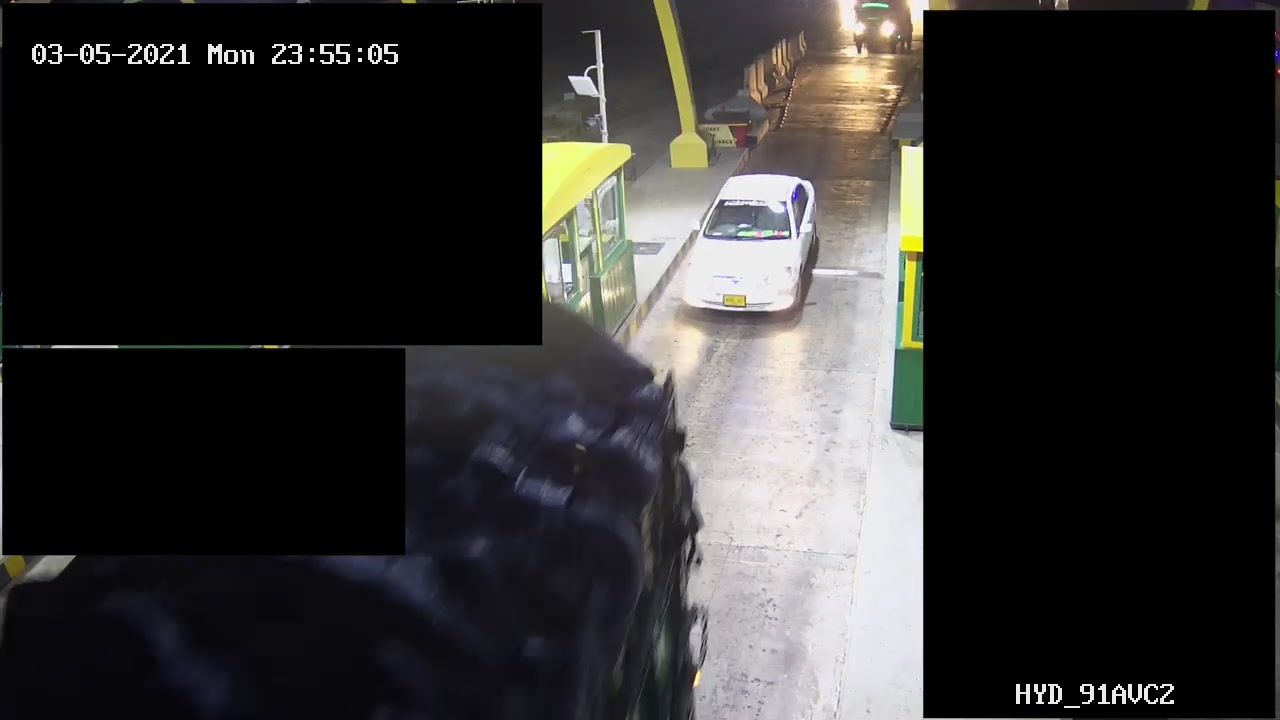F1: (678, 162, 825, 325)
